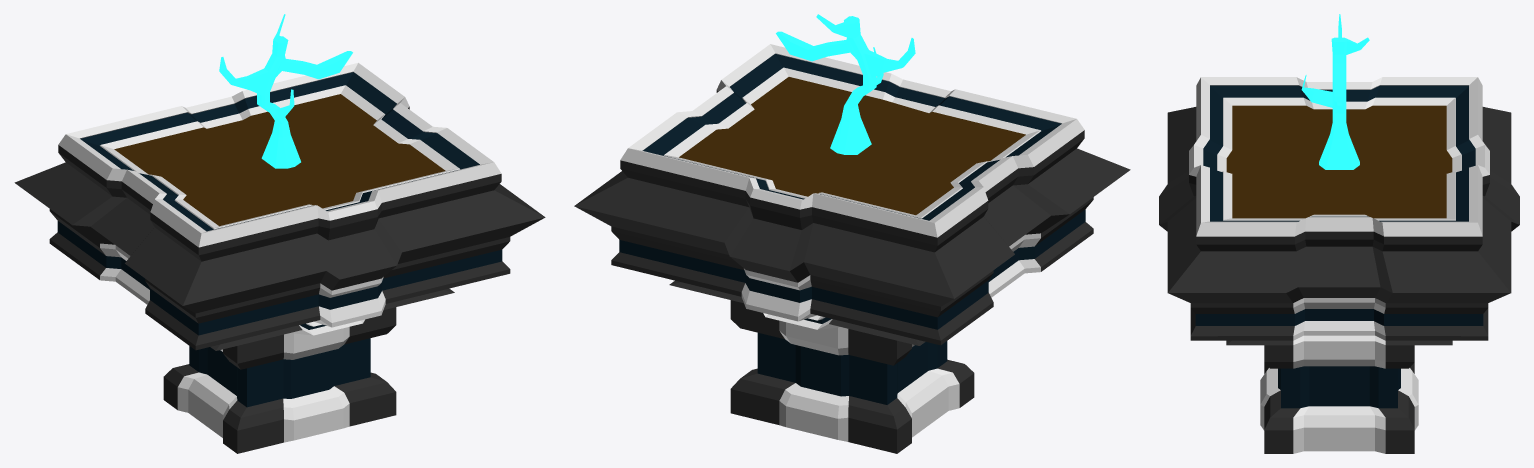
The model's file is FakePlant.fbx.
3 renders of one model, left to right at view 1: azimuth 30°, elevation 25°; view 2: azimuth 150°, elevation 25°; view 3: azimuth 270°, elevation 25°, orthographic. The views are drawn at different scales.
Visible parts, largest first — view 1: Cube.001, Cube.002; view 2: Cube.001, Cube.002; view 3: Cube.001, Cube.002.
Boxes of the visible parts, x1,y1,x2,y2 form: Cube.001: [14, 62, 545, 453]; Cube.002: [219, 14, 352, 168]; Cube.001: [574, 44, 1130, 453]; Cube.002: [776, 14, 915, 154]; Cube.001: [1159, 77, 1519, 453]; Cube.002: [1301, 14, 1369, 169].
Bounding box in the file's own units: 568 × 566 × 480.
